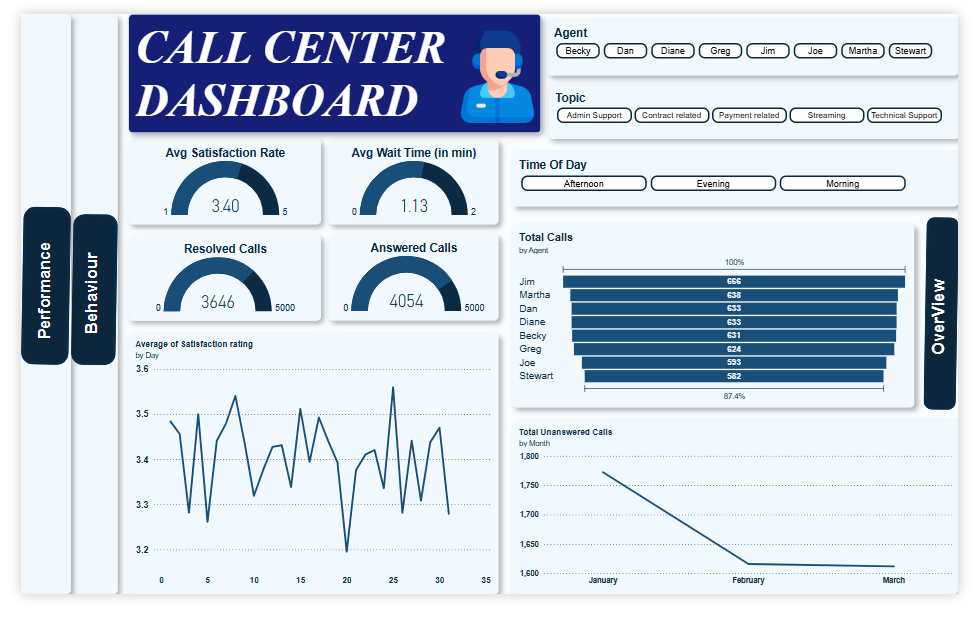

The page's visual inventory and layout, read from the dashboard file:
{"tool":"powerbi","page":{"name":"Overview","canvas":[1500,928],"ordinal":0},"visuals":[{"type":"gauge","title":"Answered Calls","fields":{"Y":["Sheet1.Answered (Y/N)"]},"box":[491.7,351.7,271.7,138.3],"z":0},{"type":"gauge","title":"Avg Satisfaction Rate","fields":{"Y":["Sheet1.Satisfaction rating"],"MinValue":["Sum(Sheet1.Satisfaction rating)1"],"MaxValue":["Sum(Sheet1.Satisfaction rating)2"]},"box":[171.7,200,308.3,136.7],"z":1000},{"type":"gauge","title":"Avg  Wait Time (in min)","fields":{"Y":["Sheet1.Speed of answer in minutes"],"MinValue":["Sheet1.Speed of answer in minutes"],"MaxValue":["Sum(Sheet1.Speed of answer in minutes)1"]},"box":[491.7,200,271.7,136.7],"z":2000},{"type":"gauge","title":"Resolved Calls","fields":{"Y":["Sheet1.Resolved"]},"box":[171.7,353.3,308.3,136.7],"z":3000},{"type":"ChicletSlicer1448559807354","title":"Agent","fields":{"Category":["Sheet1.Agent"]},"box":[841.7,8.3,658.3,90],"z":4000},{"type":"ChicletSlicer1448559807354","title":"Time Of Day","fields":{"Category":["Sheet1.TimeOfDay"]},"box":[786.7,220,713.3,88.3],"z":5000},{"type":"ChicletSlicer1448559807354","title":"Topic","fields":{"Category":["Sheet1.Topic"]},"box":[843.3,111.7,656.7,88.3],"z":6000},{"type":"shape","box":[58.3,0,96.7,928.3],"z":7000},{"type":"actionButton","title":"Overview","box":[80,305,75,270],"z":8000},{"type":"shape","box":[0,0,80,928.3],"z":9000},{"type":"actionButton","title":"Overview","box":[0,293.3,80,281.7],"z":10000},{"type":"shape","title":"CALL CENTER DASHBOARD","box":[171.4,0,660,190],"z":11000},{"type":"image","title":"CALL CENTER DASHBOARD","box":[678.3,0,168.3,200],"z":12000},{"type":"lineChart","fields":{"Y":["Sheet1.Satisfaction rating"],"Category":["Sheet1.Date.Variation.Date Hierarchy.Day"]},"box":[171.7,510,591.7,418.3],"z":13000},{"type":"funnel","fields":{"Category":["Sheet1.Agent"],"Y":["Sheet1.Call Id"]},"box":[786.7,336.7,643.3,293.3],"z":14000},{"type":"actionButton","title":"Overview","box":[1443.3,290,56.7,378.3],"z":15000},{"type":"lineChart","fields":{"Category":["Sheet1.Date.Variation.Date Hierarchy.Month"],"Y":["Sheet1.Answered (Y/N)"]},"box":[786.7,650,713.3,278.3],"z":16000}]}

Visuals, with their boxes in screenshot pixels (x1, y1, x2, y2), scaled from the page's 1500x928 canvas onto the 978x620 screenshot:
"Answered Calls" gauge: x1=321, y1=235, x2=498, y2=327
"Avg Satisfaction Rate" gauge: x1=112, y1=134, x2=313, y2=225
"Avg  Wait Time (in min)" gauge: x1=321, y1=134, x2=498, y2=225
"Resolved Calls" gauge: x1=112, y1=236, x2=313, y2=327
"Agent" ChicletSlicer1448559807354: x1=549, y1=6, x2=977, y2=66
"Time Of Day" ChicletSlicer1448559807354: x1=513, y1=147, x2=977, y2=206
"Topic" ChicletSlicer1448559807354: x1=550, y1=75, x2=977, y2=134
shape: x1=38, y1=0, x2=101, y2=619
"Overview" actionButton: x1=52, y1=204, x2=101, y2=384
shape: x1=0, y1=0, x2=52, y2=619
"Overview" actionButton: x1=0, y1=196, x2=52, y2=384
"CALL CENTER DASHBOARD" shape: x1=112, y1=0, x2=542, y2=127
"CALL CENTER DASHBOARD" image: x1=442, y1=0, x2=552, y2=134
lineChart - Sheet1.Satisfaction rating x Sheet1.Date.Variation.Date Hierarchy.Day: x1=112, y1=341, x2=498, y2=619
funnel - Sheet1.Agent x Sheet1.Call Id: x1=513, y1=225, x2=932, y2=421
"Overview" actionButton: x1=941, y1=194, x2=977, y2=446
lineChart - Sheet1.Date.Variation.Date Hierarchy.Month x Sheet1.Answered (Y/N): x1=513, y1=434, x2=977, y2=619
